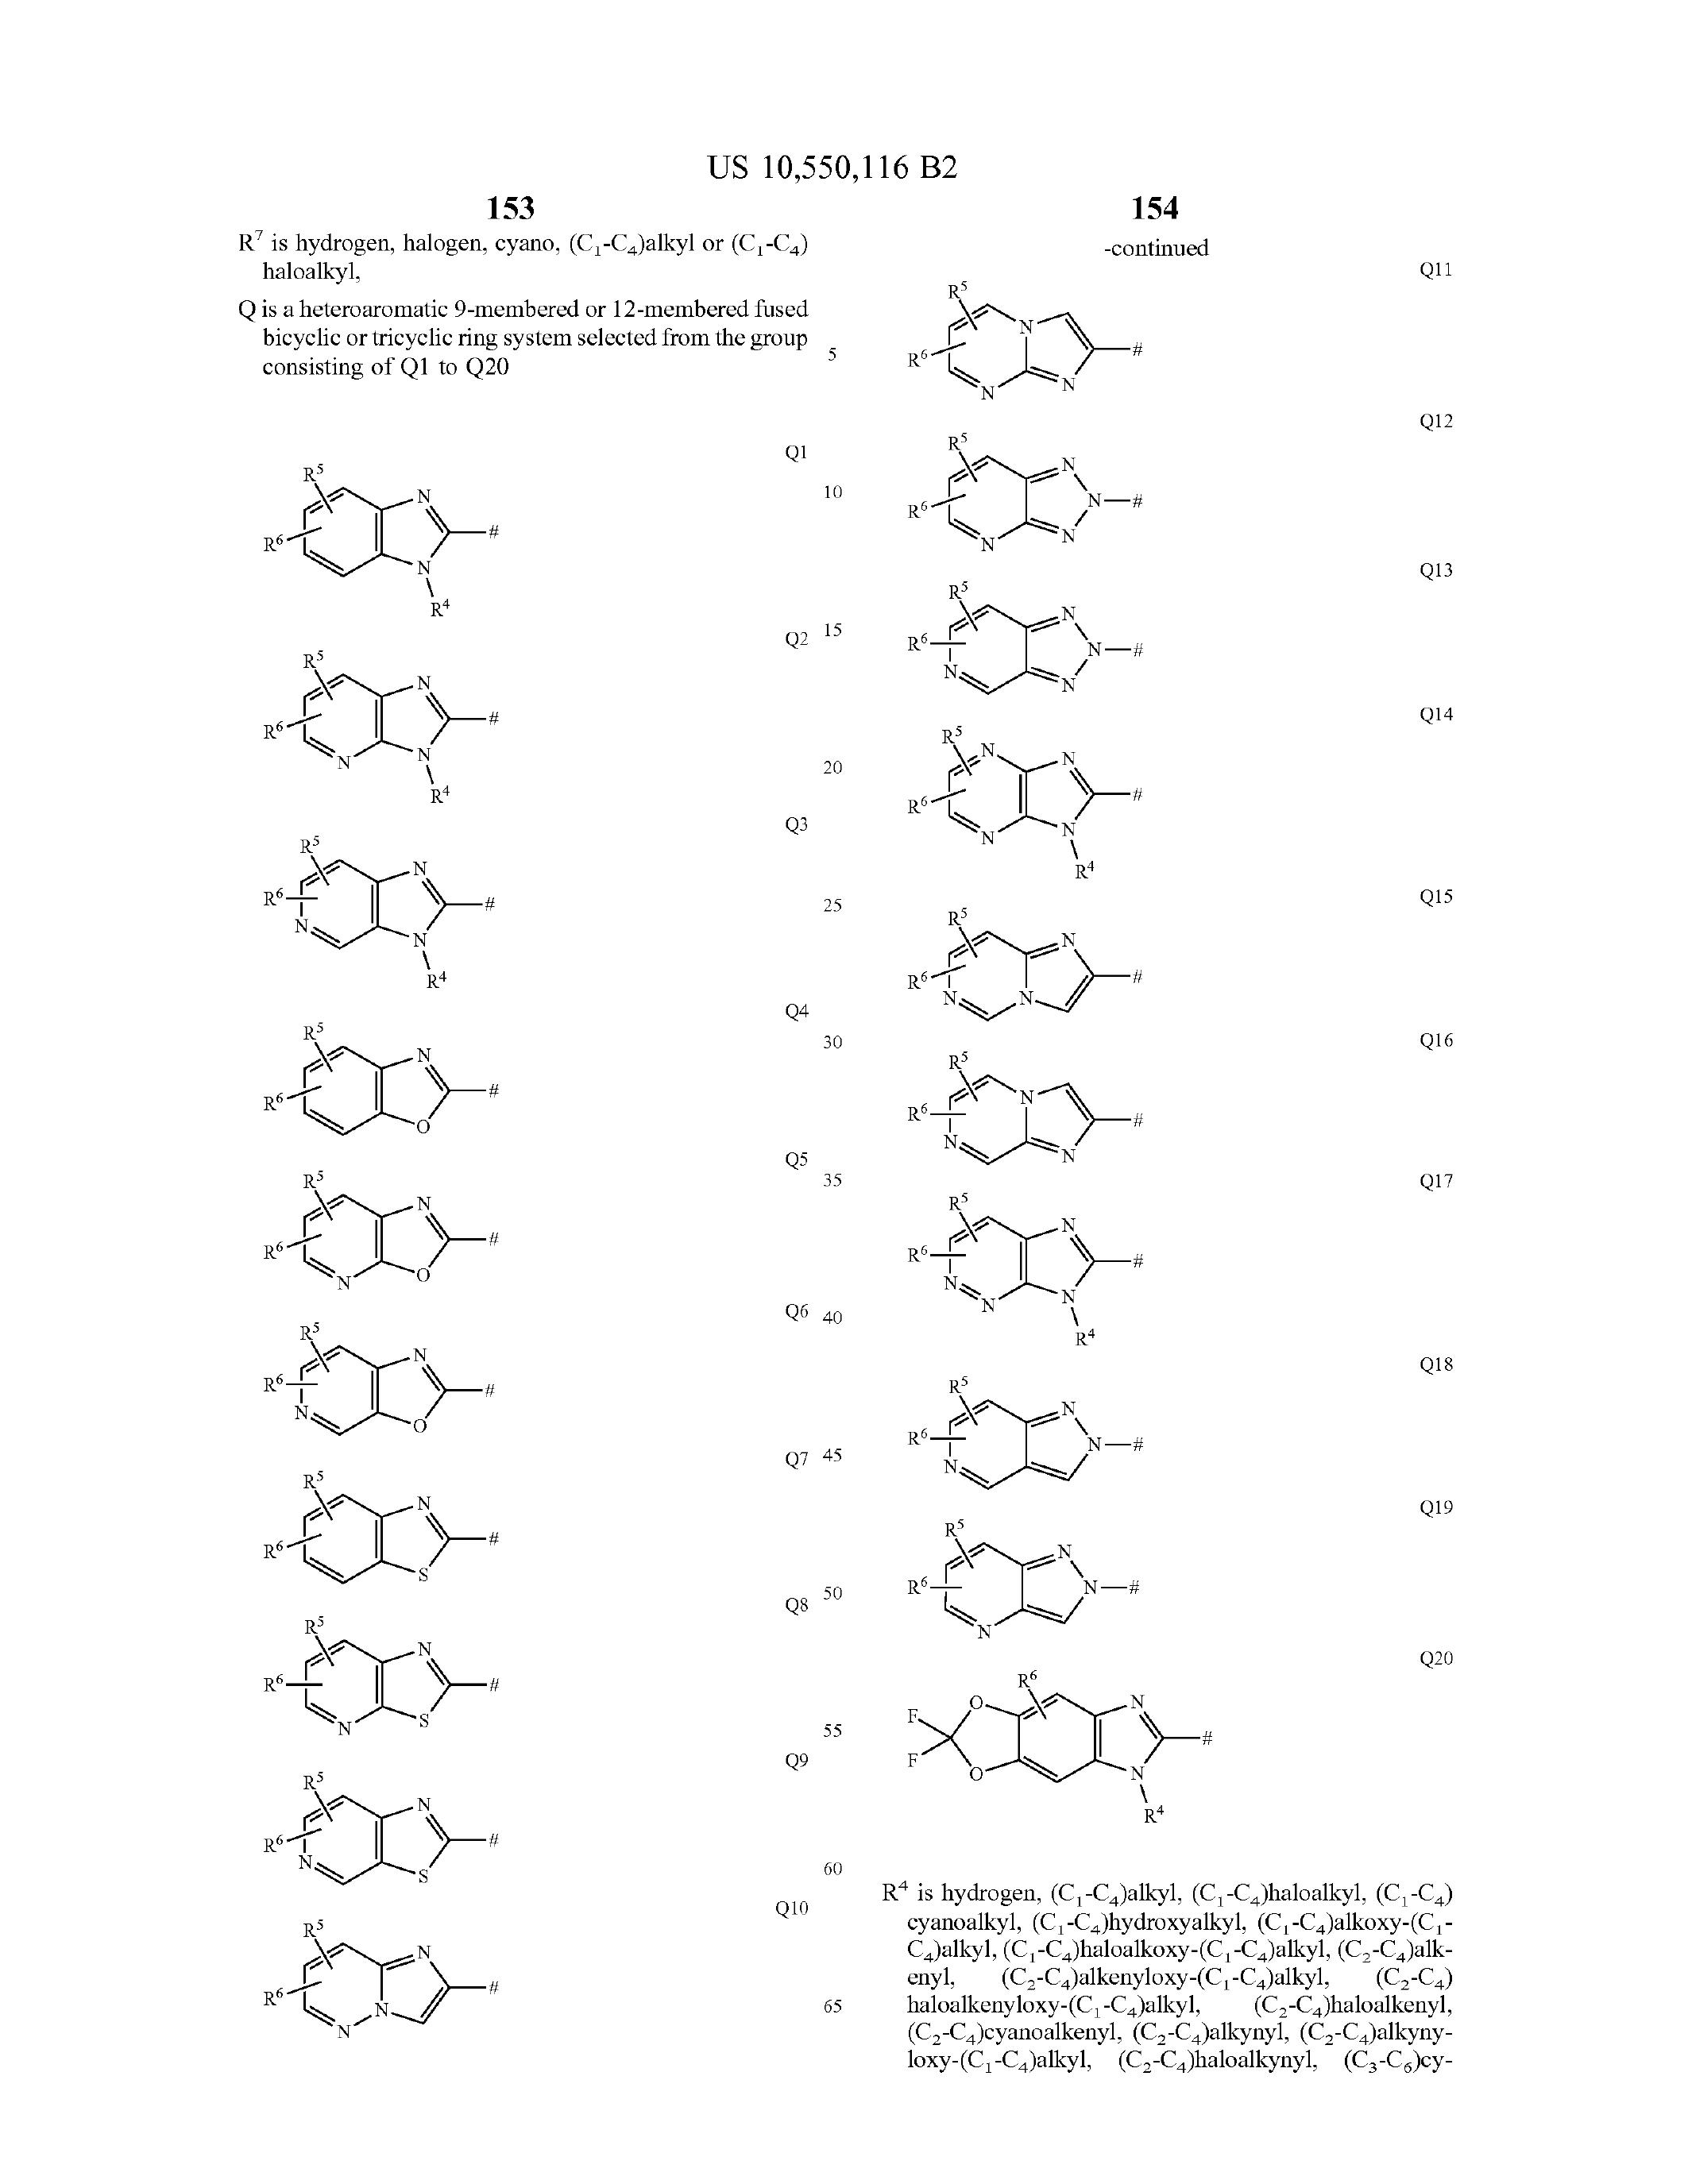substitutes: (215, 408, 560, 622), (894, 1666, 1259, 1856), (207, 830, 573, 1010), (197, 1010, 594, 1156), (222, 642, 569, 805), (207, 1922, 622, 2053), (207, 1439, 537, 1604), (238, 1149, 523, 1317), (899, 1181, 1145, 1376), (215, 1321, 532, 1470), (897, 264, 1147, 450), (215, 1615, 528, 1759), (888, 1026, 1154, 1193), (897, 550, 1154, 721), (892, 1496, 1154, 1665), (231, 1771, 532, 1915), (899, 714, 1149, 885), (887, 413, 1168, 551), (883, 892, 1160, 1028), (894, 1377, 1161, 1514)
